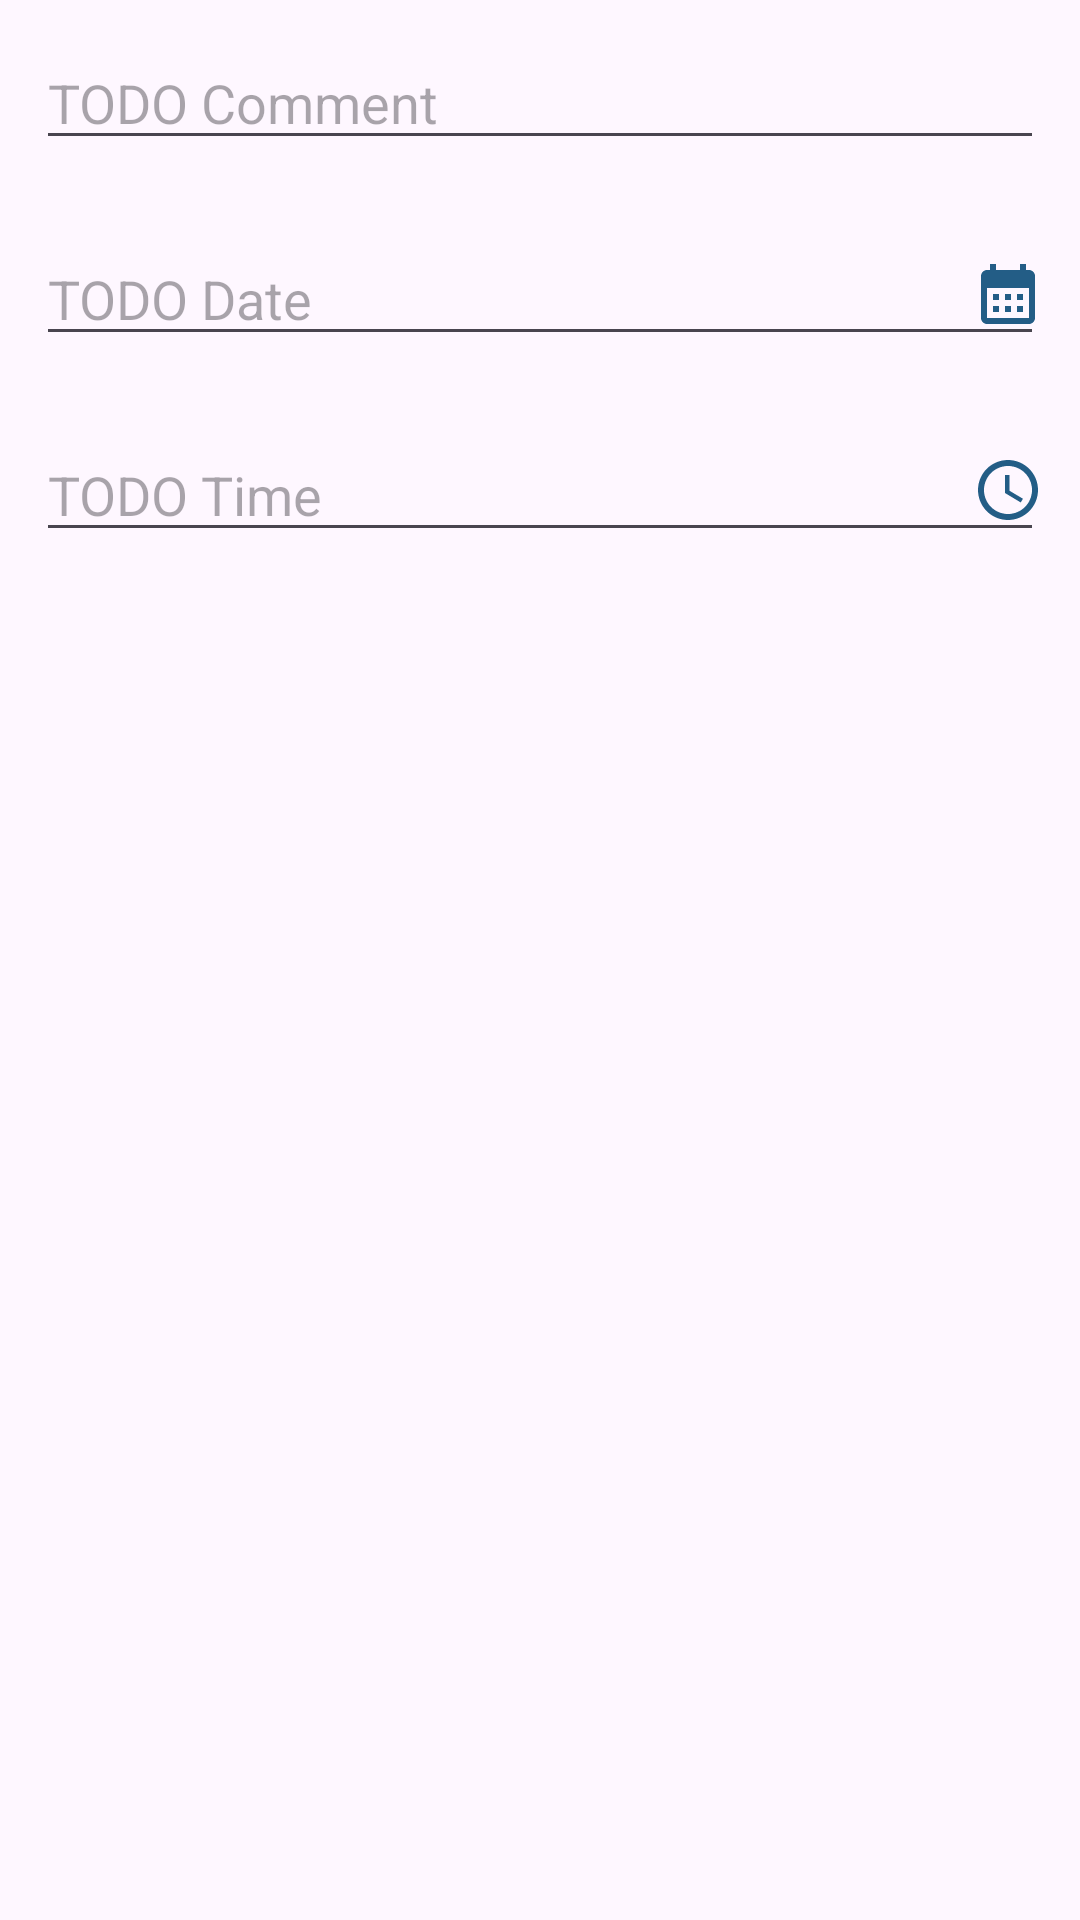

Icon bounding boxes for this 1080px×1920px phone screenshot, format BBox(x1, y1, x2, y2):
calendar: BBox(981, 264, 1035, 324)
